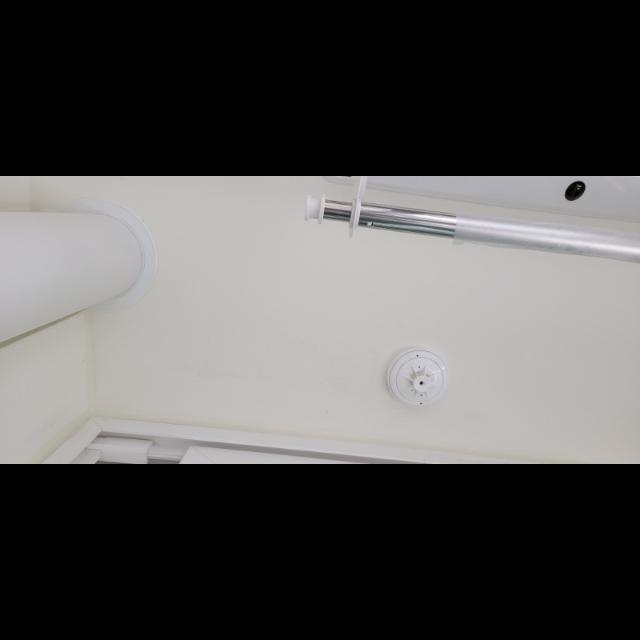Smoke-Detector: (388, 347, 449, 409)
